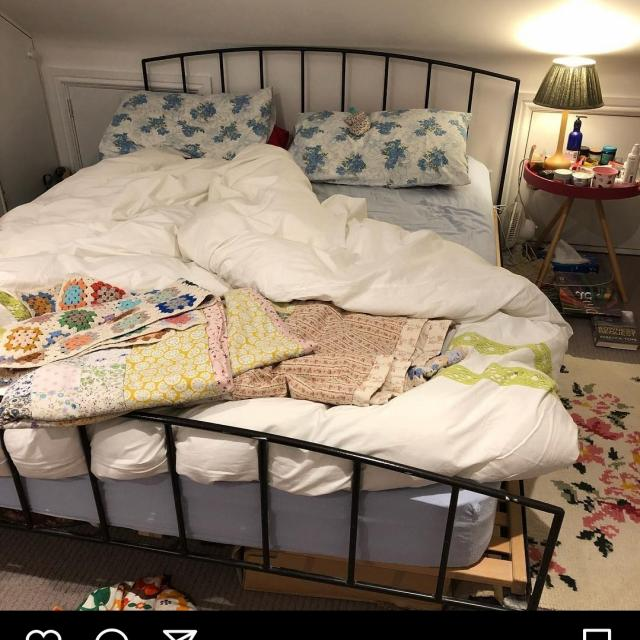bed: (0, 64, 566, 570)
